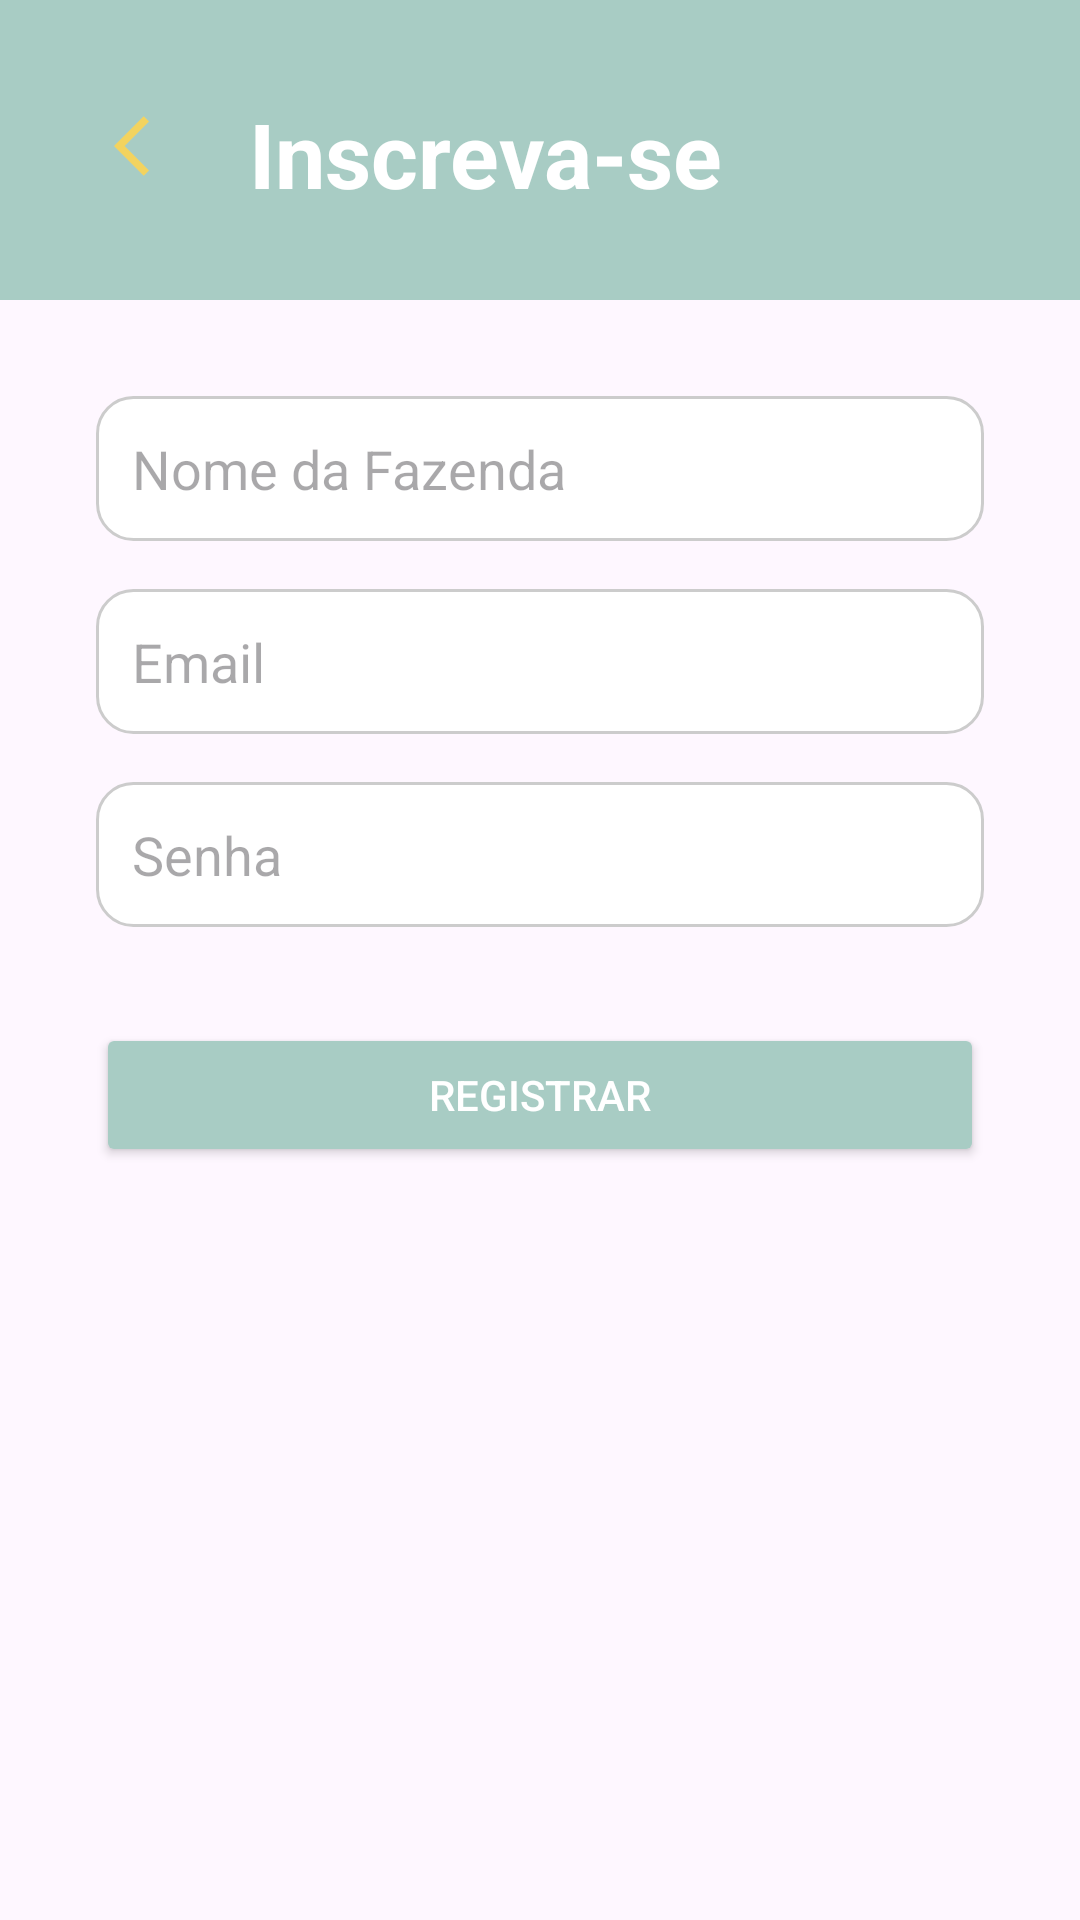

Where to tap for icons on this 1080w x 1920h app screen, as (x=x, y=y):
seta esquerda: (x=131, y=146)
